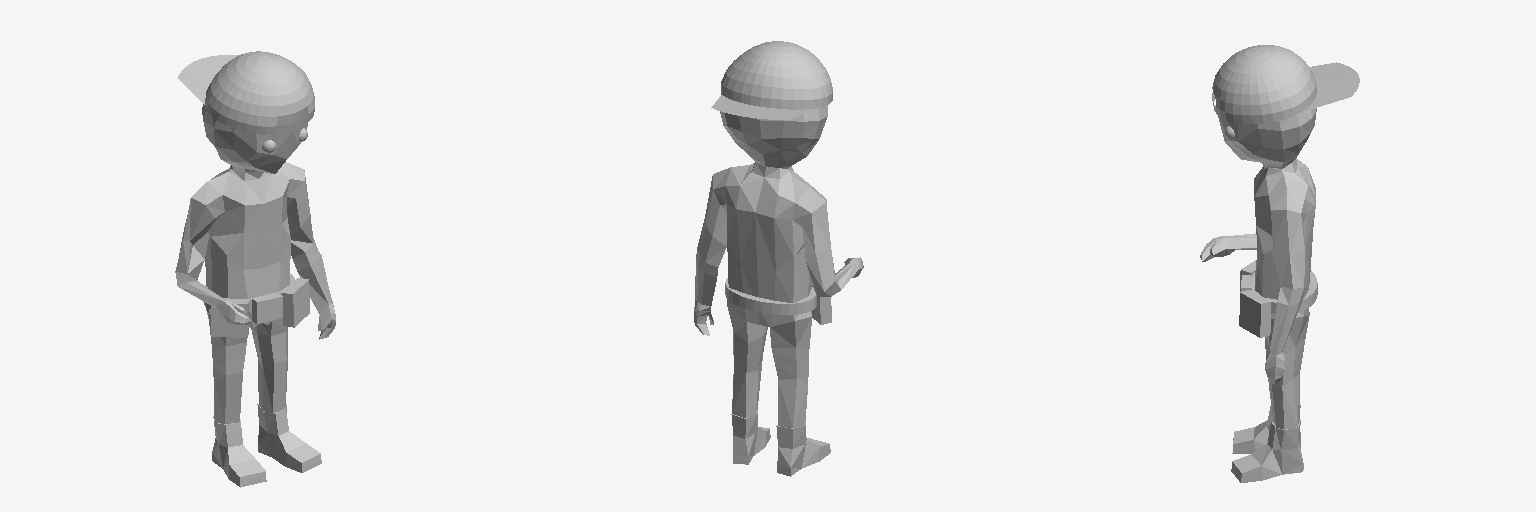
File: Main_Character_Paint_8.obj
3 renders of one model, left to right at view 1: azimuth 30°, elevation 25°; view 2: azimuth 150°, elevation 25°; view 3: azimuth 270°, elevation 25°, orthographic.
Parts seen in each view (by area): view 1: Main_Character_Test.003_Main_Character_Test.004; view 2: Main_Character_Test.003_Main_Character_Test.004; view 3: Main_Character_Test.003_Main_Character_Test.004.
Part boxes in pixels (left/top/right/bottom): Main_Character_Test.003_Main_Character_Test.004: left=175, top=51, right=335, bottom=487; Main_Character_Test.003_Main_Character_Test.004: left=694, top=41, right=863, bottom=476; Main_Character_Test.003_Main_Character_Test.004: left=1200, top=45, right=1359, bottom=482.
Size of the model in its own units: 1.54 by 3.96 by 1.4.